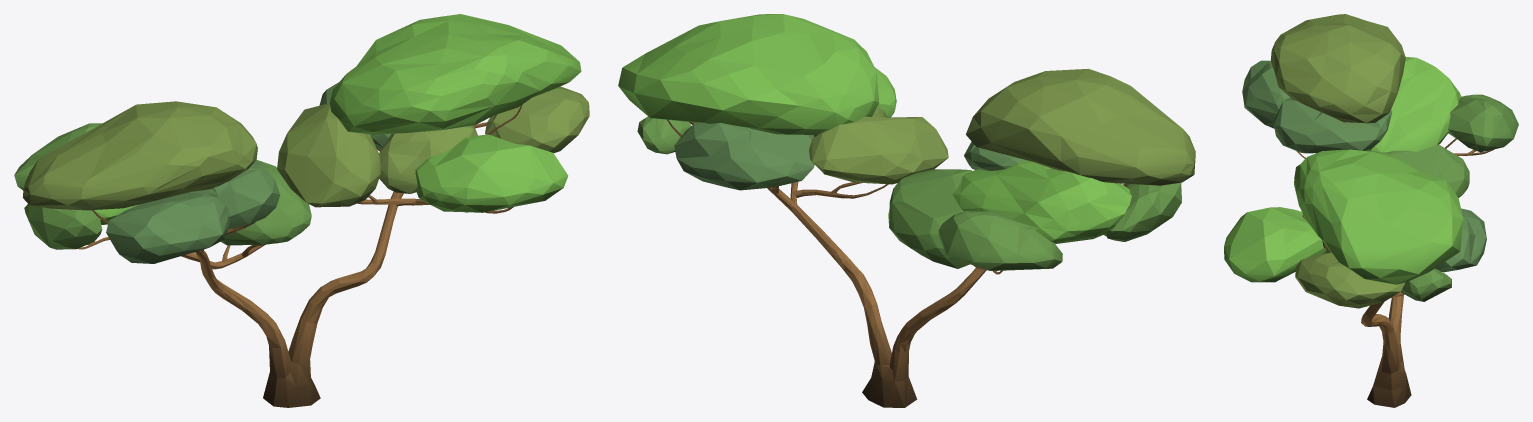
Rendered from JungleTree_Lrg_B.fbx.
The picture shows the model from 3 angles, left to right: view 1: azimuth 30°, elevation 25°; view 2: azimuth 150°, elevation 25°; view 3: azimuth 270°, elevation 25°; orthographic projection. The views are drawn at different scales.
Visible parts, largest first — view 1: JungleTree_Lrg_B; view 2: JungleTree_Lrg_B; view 3: JungleTree_Lrg_B.
Part boxes in pixels (box(x1,y1,x2,y2)): JungleTree_Lrg_B: box(14, 14, 589, 407); JungleTree_Lrg_B: box(618, 14, 1195, 407); JungleTree_Lrg_B: box(1224, 14, 1518, 407).
Size of the model in its own units: 21.15 by 12.27 by 10.96.
